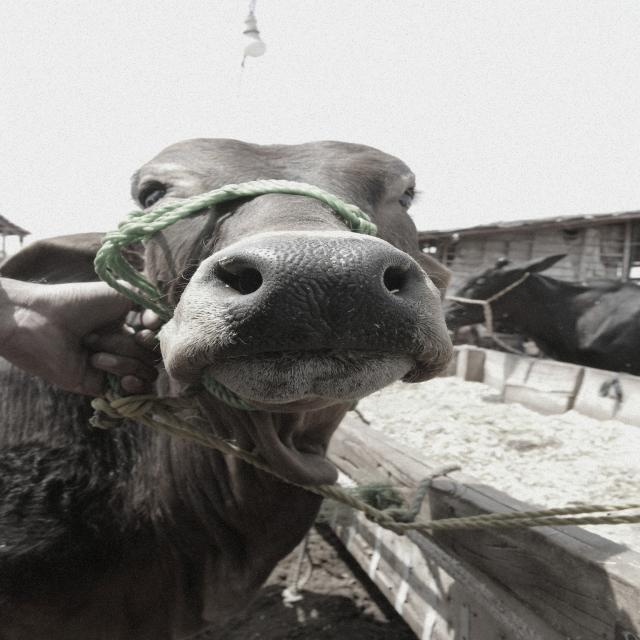muzzles: (190, 234, 452, 373)
